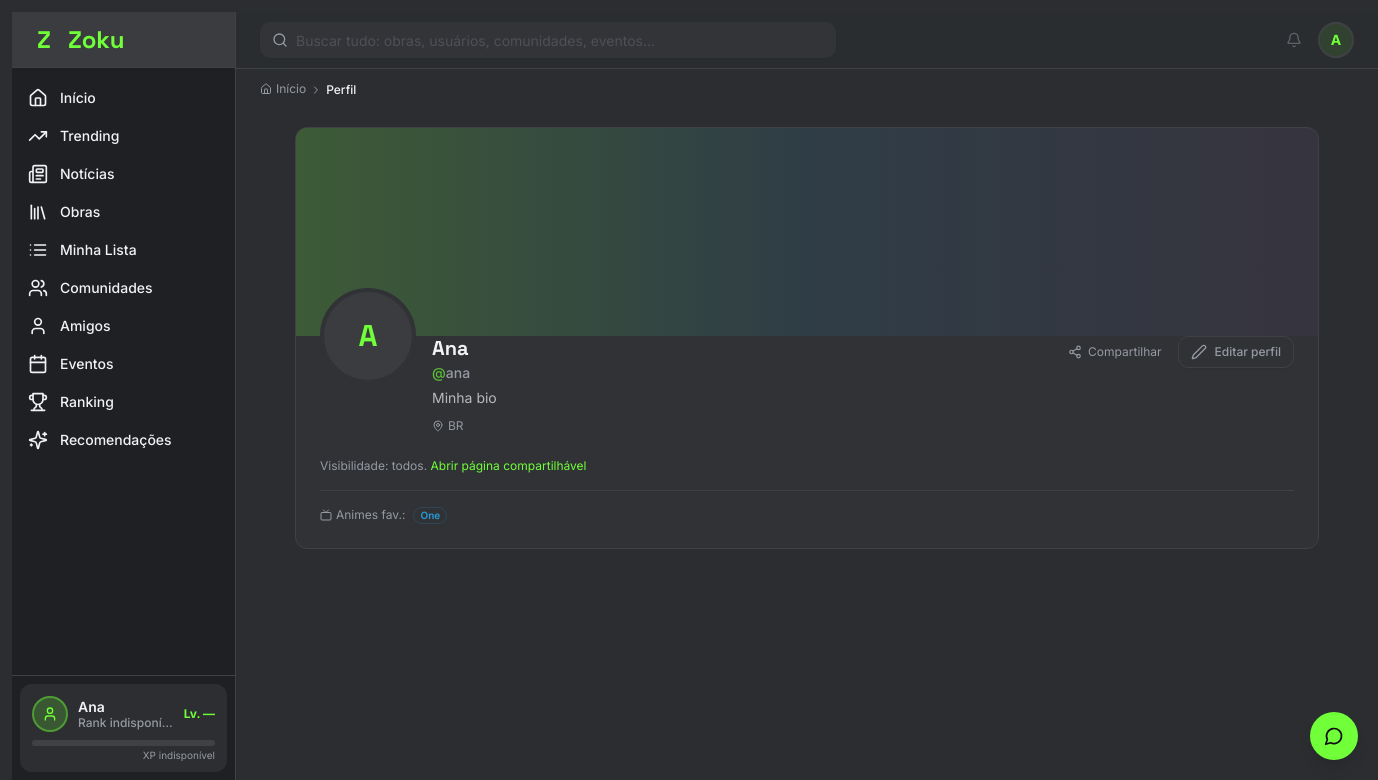
Test: collapses the sidebar while preserving accessible navigation and restores the profile card
Check: the heading "Ana" is shown, box [432,335,469,361]
What coordinates should you click on to do the following:
click the button with aria-label "Recolher menu"
I would click on:
 (124, 40)
Its box is [12,12,235,68].
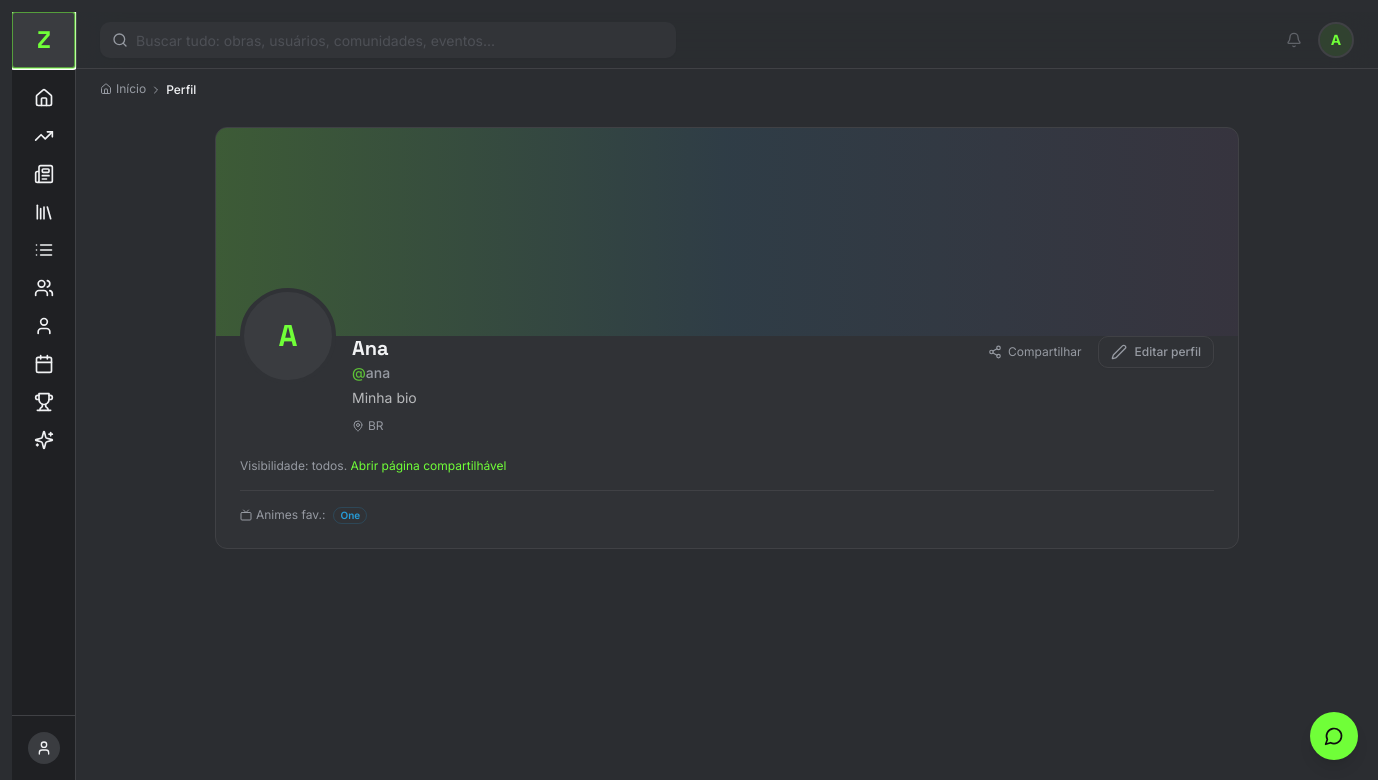
Check: the button named "Expandir menu" is collapsed
Check: the text "XP indisponível" is gone
What coordinates should you click on to do the following:
click the button named "Expandir menu"
I would click on:
 (44, 40)
Its box is [12,12,75,68].
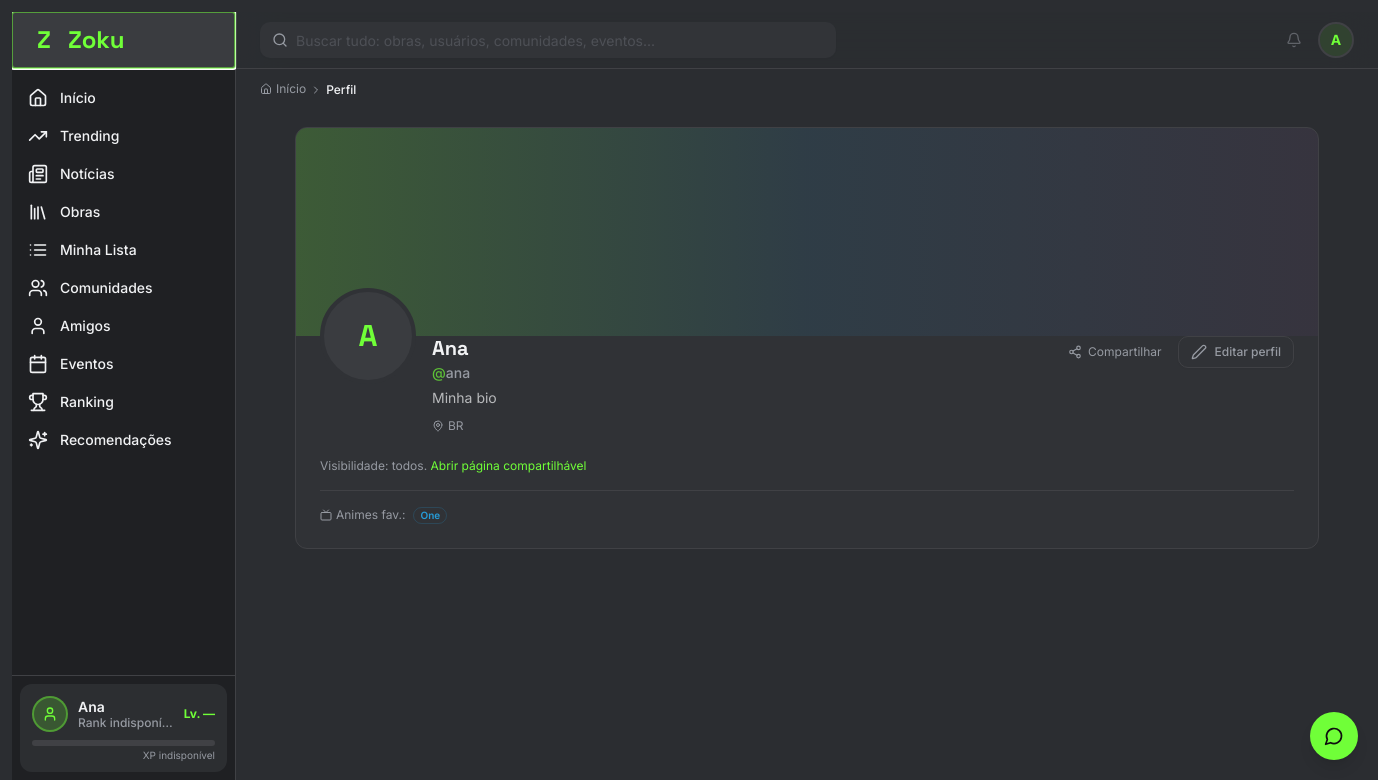
Check: the text "XP indisponível" is shown, box [143,749,215,761]
